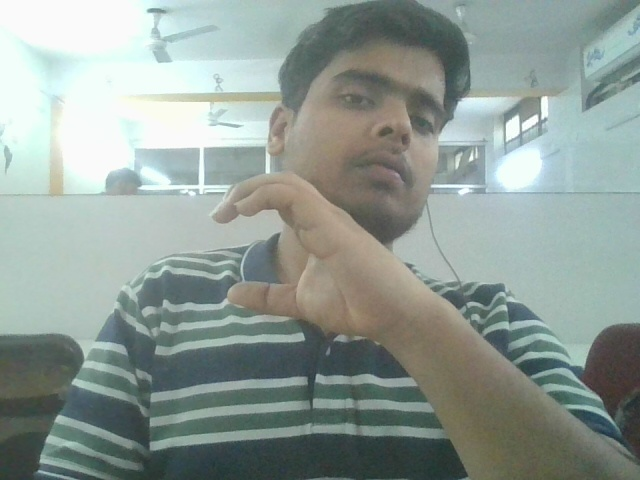No: (183, 157, 419, 360)
